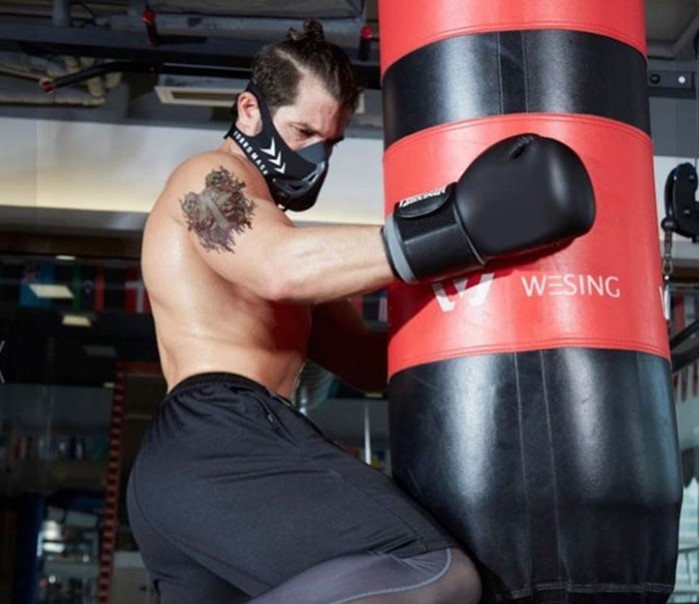face_with_mask: (237, 30, 363, 210)
